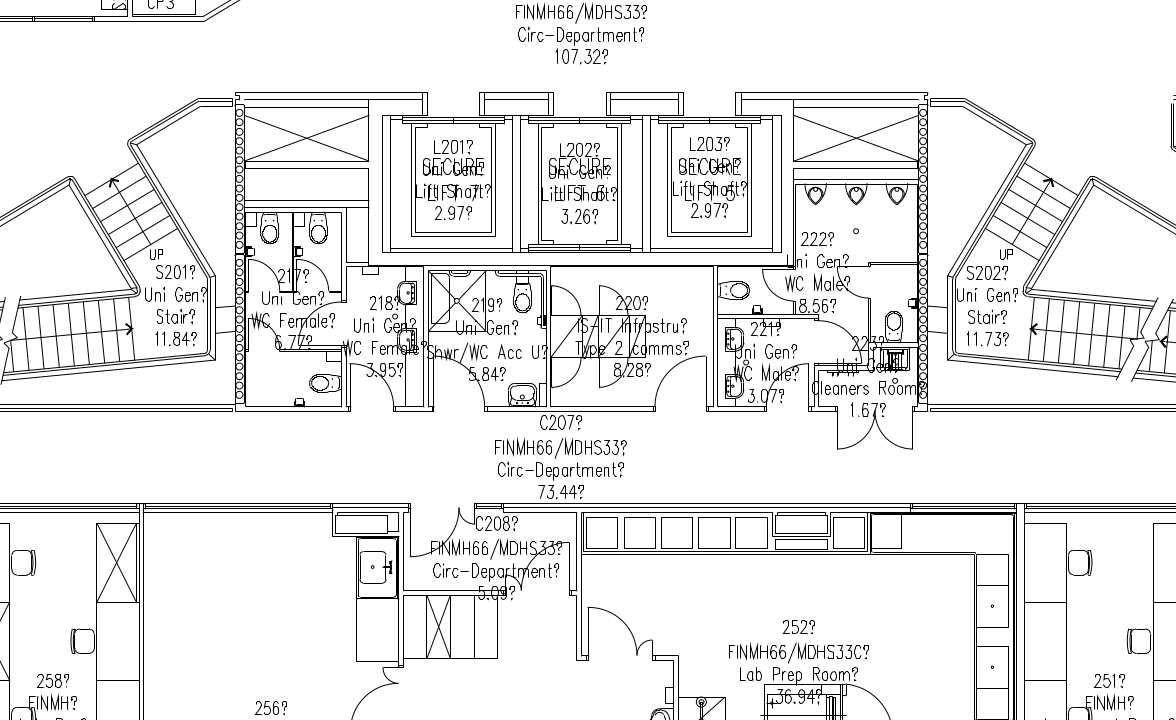door: (583, 599, 657, 666), (832, 402, 917, 459), (408, 500, 482, 561), (499, 534, 573, 595), (430, 347, 492, 417), (347, 356, 409, 426), (334, 663, 409, 720), (650, 349, 709, 413), (805, 309, 864, 373), (762, 358, 810, 418), (830, 254, 872, 301), (247, 256, 286, 299), (295, 254, 334, 297), (551, 280, 590, 323), (594, 276, 633, 319)
